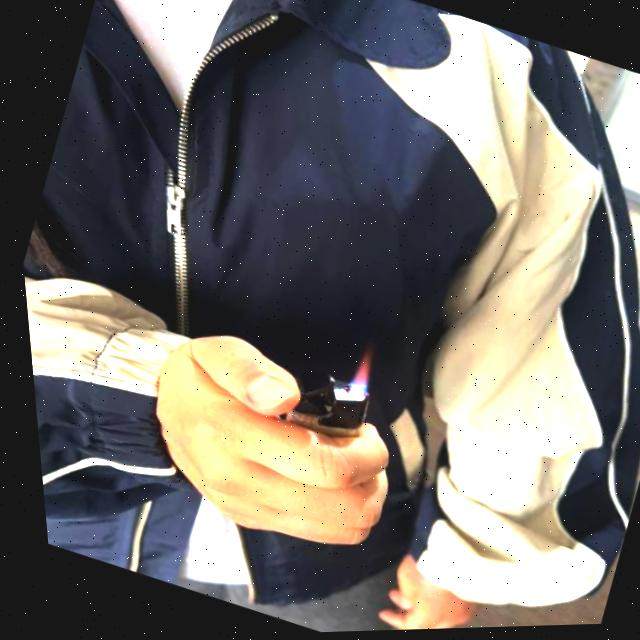Fire: (335, 342, 378, 402)
